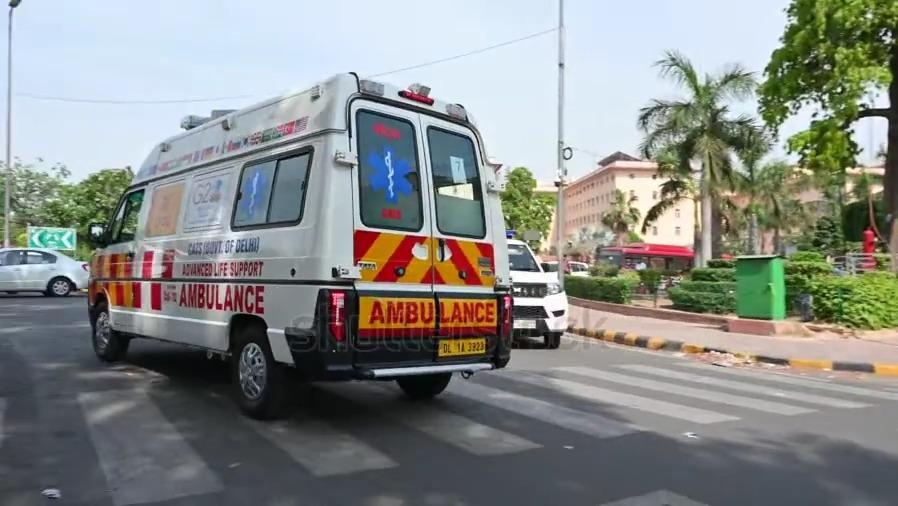Ambulance: (365, 298, 496, 328), (364, 143, 415, 206), (177, 282, 266, 315)
